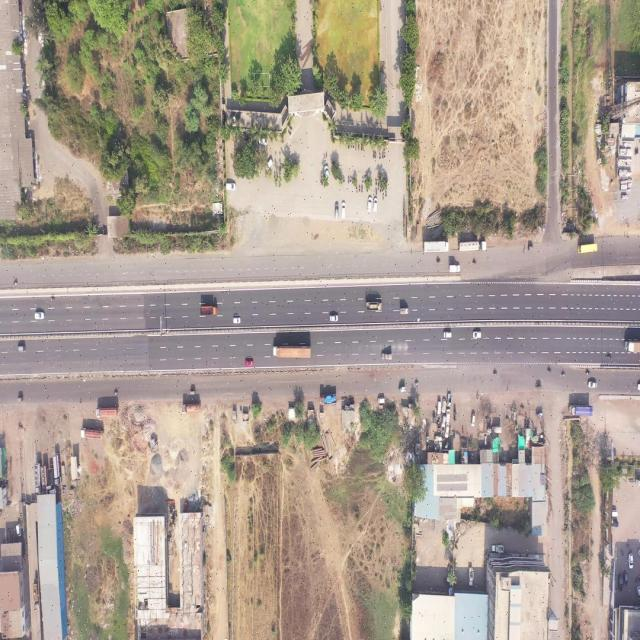3W: (529, 244, 535, 252), (399, 387, 406, 393), (18, 396, 24, 402), (537, 414, 544, 418), (536, 385, 541, 390), (190, 391, 196, 395)
Bus: (577, 244, 598, 253)
Cars: (628, 553, 634, 569), (34, 312, 45, 320), (226, 183, 236, 191), (618, 576, 623, 592), (367, 197, 372, 212), (473, 331, 482, 339), (335, 203, 339, 220), (342, 202, 346, 219), (16, 524, 21, 537), (330, 314, 338, 322), (232, 317, 241, 324), (245, 360, 254, 367), (443, 332, 452, 339), (588, 381, 597, 388), (445, 423, 449, 438), (373, 198, 377, 212), (624, 572, 628, 586), (437, 402, 441, 416), (442, 399, 446, 413), (447, 410, 451, 423), (378, 397, 385, 404), (612, 510, 618, 518), (471, 414, 475, 426), (18, 345, 25, 351), (612, 520, 618, 527)
LCV: (449, 264, 461, 273), (381, 352, 393, 361), (492, 544, 504, 553), (469, 567, 473, 587), (492, 426, 502, 433), (400, 308, 409, 315), (447, 394, 451, 407)
M2W: (378, 151, 381, 160), (473, 259, 477, 265), (382, 190, 384, 200), (375, 187, 377, 196), (348, 175, 350, 184), (343, 175, 345, 184), (373, 150, 375, 159), (606, 356, 612, 359), (437, 259, 441, 263), (385, 190, 387, 198), (362, 176, 364, 184), (356, 186, 358, 194), (350, 175, 352, 183), (382, 151, 384, 159), (375, 150, 377, 158), (562, 373, 566, 377), (114, 392, 118, 396), (375, 178, 377, 185), (361, 186, 363, 193), (384, 151, 386, 158), (358, 144, 360, 151), (13, 282, 17, 285), (586, 372, 590, 375), (547, 370, 551, 373), (494, 372, 498, 375), (415, 382, 419, 385), (50, 298, 53, 301), (325, 155, 327, 159), (361, 144, 362, 151)
MAV: (273, 346, 311, 359), (458, 241, 487, 251), (96, 407, 118, 418), (81, 428, 101, 440), (53, 456, 61, 486), (181, 403, 200, 413), (33, 583, 39, 610)
Truck: (570, 405, 593, 416), (200, 306, 218, 316), (624, 341, 640, 352), (320, 394, 337, 404), (366, 302, 382, 312)
